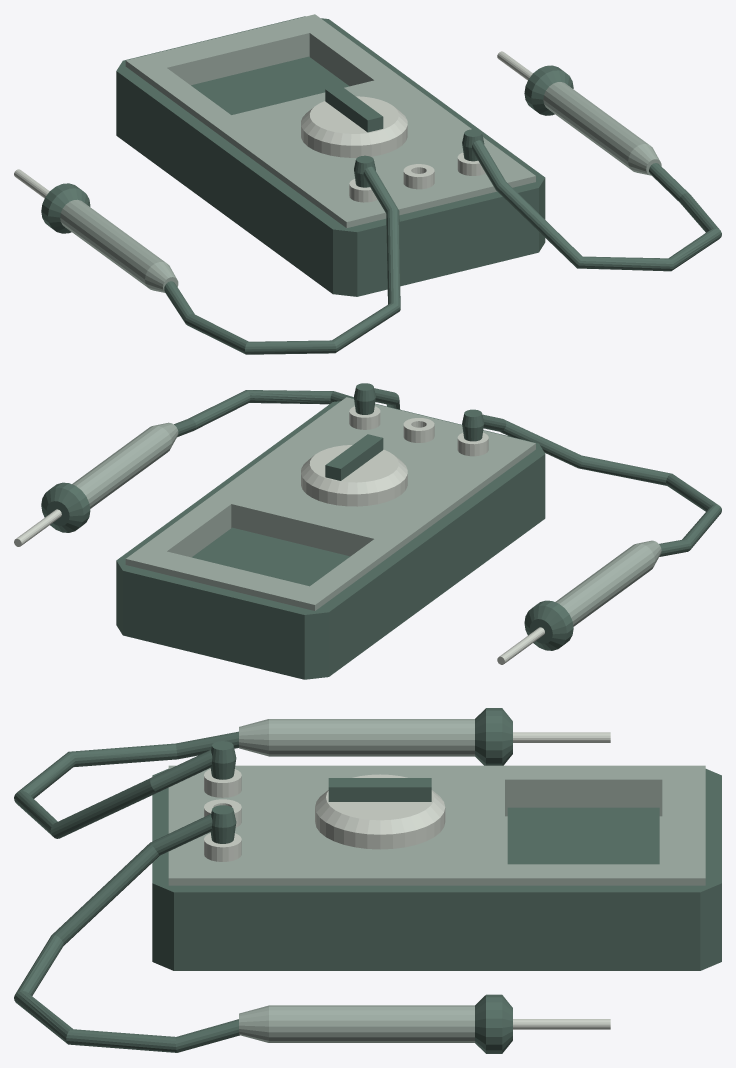
3 views of the same model, one above another, from view 1: azimuth 30°, elevation 25°; view 2: azimuth 150°, elevation 25°; view 3: azimuth 270°, elevation 25° (orthographic). The views are drawn at different scales.
Visible parts, largest first — view 1: WholeProtectivePerimeterBumper, WholeCaseWithTrueBlindScreenWell, WholeCurvedProbeLead_-1, WholeCurvedProbeLead_1, WholeRecessedOpaqueBlankScreen, WholeBlankRotarySelector, WholeLongProbeGrip_1, WholeLongProbeGrip_-1, WholeRaisedSelectorPointerGrip, WholeProbeShoulderStop_-1, WholeProbeShoulderStop_1, WholeFiniteAnnularInputSocket_1; view 2: WholeProtectivePerimeterBumper, WholeCaseWithTrueBlindScreenWell, WholeRecessedOpaqueBlankScreen, WholeBlankRotarySelector, WholeCurvedProbeLead_-1, WholeLongProbeGrip_-1, WholeLongProbeGrip_1, WholeCurvedProbeLead_1, WholeProbeShoulderStop_-1, WholeProbeShoulderStop_1, WholeRaisedSelectorPointerGrip, WholeFiniteAnnularInputSocket_1 (+6 smaller); view 3: WholeProtectivePerimeterBumper, WholeCaseWithTrueBlindScreenWell, WholeRecessedOpaqueBlankScreen, WholeLongProbeGrip_-1, WholeLongProbeGrip_1, WholeCurvedProbeLead_1, WholeCurvedProbeLead_-1, WholeBlankRotarySelector, WholeRaisedSelectorPointerGrip, WholeProbeShoulderStop_1, WholeProbeShoulderStop_-1, WholeShortBluntProbeTip_-1 (+5 smaller).
Boxes of the visible parts, x1,y1,x2,y2 form: WholeProtectivePerimeterBumper: [116, 16, 545, 296]; WholeCaseWithTrueBlindScreenWell: [125, 14, 535, 227]; WholeCurvedProbeLead_-1: [164, 166, 400, 354]; WholeCurvedProbeLead_1: [472, 140, 721, 271]; WholeRecessedOpaqueBlankScreen: [191, 56, 349, 114]; WholeBlankRotarySelector: [301, 96, 407, 157]; WholeLongProbeGrip_1: [543, 82, 661, 175]; WholeLongProbeGrip_-1: [60, 199, 178, 292]; WholeRaisedSelectorPointerGrip: [325, 85, 383, 132]; WholeProbeShoulderStop_-1: [41, 183, 90, 233]; WholeProbeShoulderStop_1: [524, 65, 573, 115]; WholeFiniteAnnularInputSocket_1: [403, 164, 434, 189]; WholeProtectivePerimeterBumper: [116, 401, 545, 679]; WholeCaseWithTrueBlindScreenWell: [125, 397, 535, 610]; WholeRecessedOpaqueBlankScreen: [192, 527, 350, 586]; WholeBlankRotarySelector: [301, 445, 407, 506]; WholeCurvedProbeLead_-1: [482, 414, 721, 556]; WholeLongProbeGrip_-1: [555, 540, 661, 626]; WholeLongProbeGrip_1: [72, 422, 178, 508]; WholeCurvedProbeLead_1: [174, 388, 400, 437]; WholeProbeShoulderStop_-1: [524, 600, 573, 650]; WholeProbeShoulderStop_1: [41, 482, 90, 532]; WholeRaisedSelectorPointerGrip: [325, 434, 383, 480]; WholeFiniteAnnularInputSocket_1: [403, 418, 434, 442]; WholeProtectivePerimeterBumper: [152, 768, 721, 970]; WholeCaseWithTrueBlindScreenWell: [168, 765, 705, 885]; WholeRecessedOpaqueBlankScreen: [507, 807, 659, 864]; WholeLongProbeGrip_-1: [239, 719, 474, 756]; WholeLongProbeGrip_1: [239, 1005, 474, 1042]; WholeCurvedProbeLead_1: [14, 814, 239, 1052]; WholeCurvedProbeLead_-1: [14, 731, 238, 838]; WholeBlankRotarySelector: [315, 774, 445, 849]; WholeRaisedSelectorPointerGrip: [328, 778, 431, 801]; WholeProbeShoulderStop_1: [475, 994, 512, 1053]; WholeProbeShoulderStop_-1: [475, 708, 512, 765]; WholeShortBluntProbeTip_-1: [513, 732, 610, 742].
Bounding box in the file's own units: 0.272 × 0.053 × 0.261.
